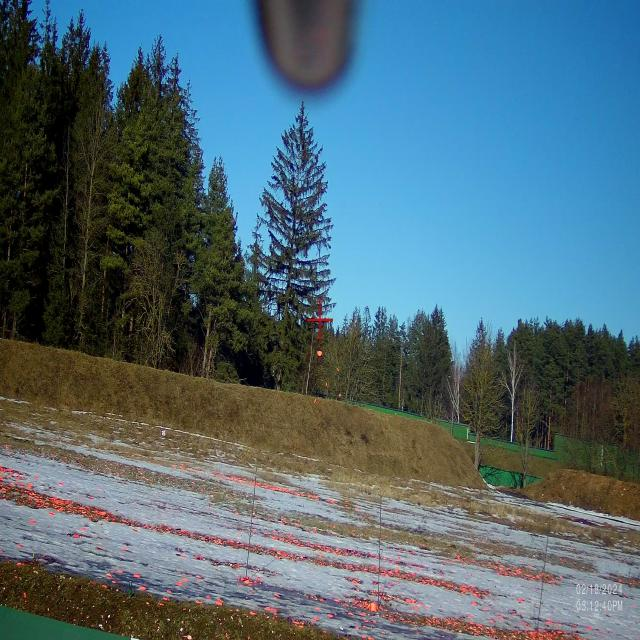broken: (298, 336, 348, 417)
